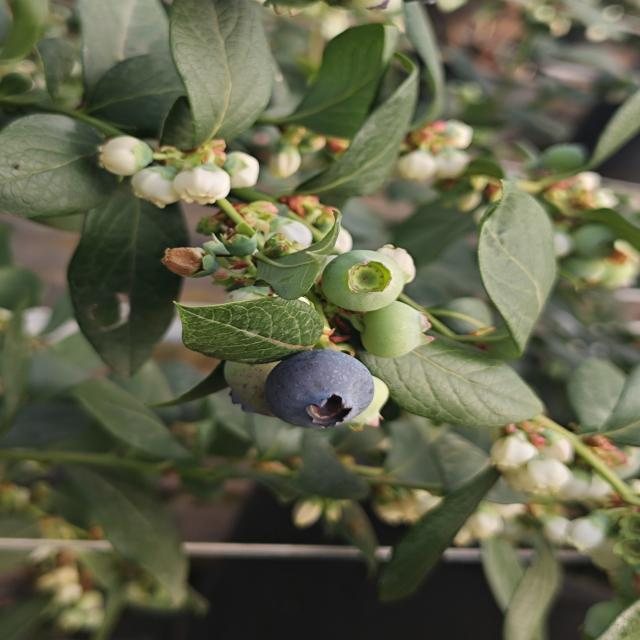ripe: (262, 347, 378, 431)
